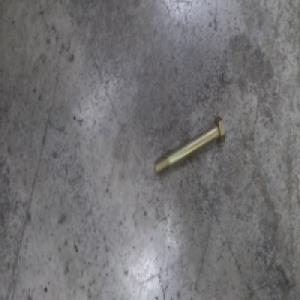Bolt: (153, 115, 225, 177)
